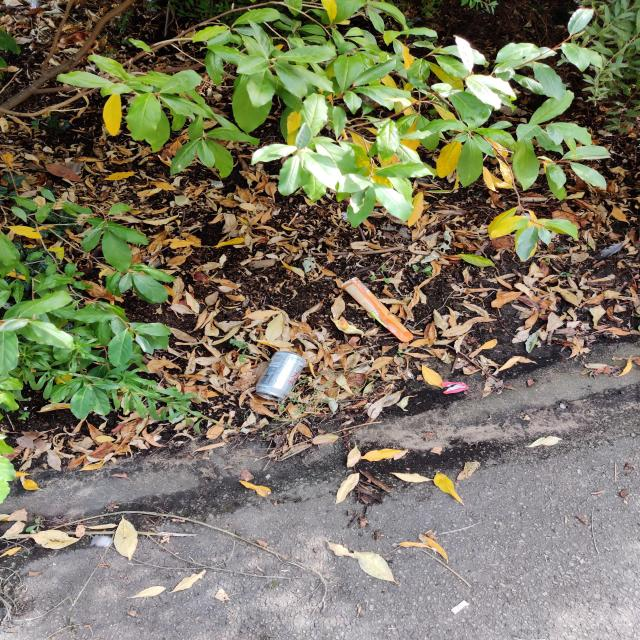litter: (235, 344, 332, 408), (337, 275, 417, 346), (439, 379, 471, 400), (447, 598, 474, 616)
